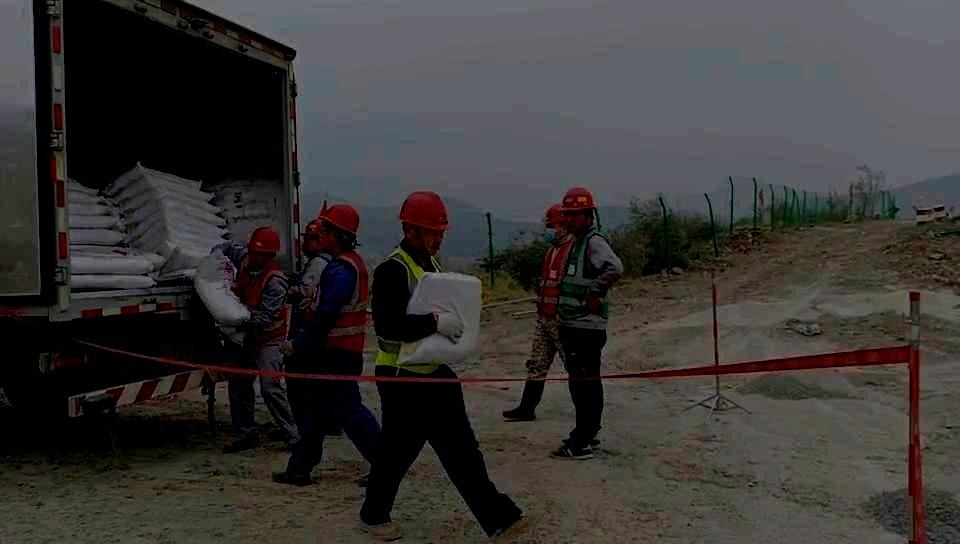helmet: (397, 189, 454, 256), (317, 203, 360, 254), (556, 186, 597, 233), (244, 225, 282, 270), (297, 217, 325, 258), (541, 203, 568, 245)
